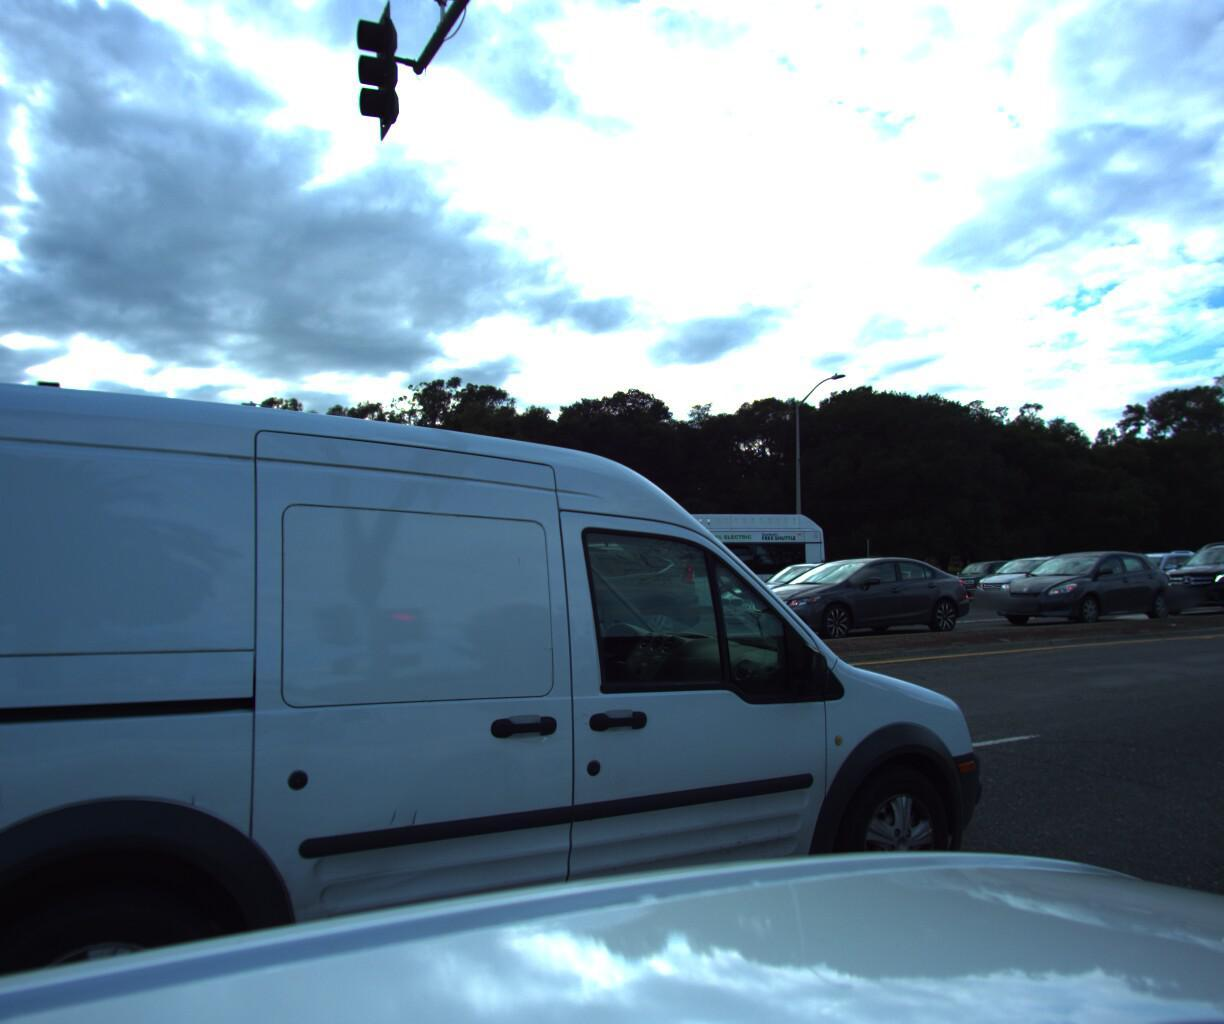bus: (456, 504, 833, 614)
car: (0, 299, 1032, 1024), (723, 551, 972, 642), (976, 548, 1173, 625), (702, 555, 904, 626), (966, 550, 1096, 605), (1143, 533, 1224, 612), (927, 555, 1050, 603)
